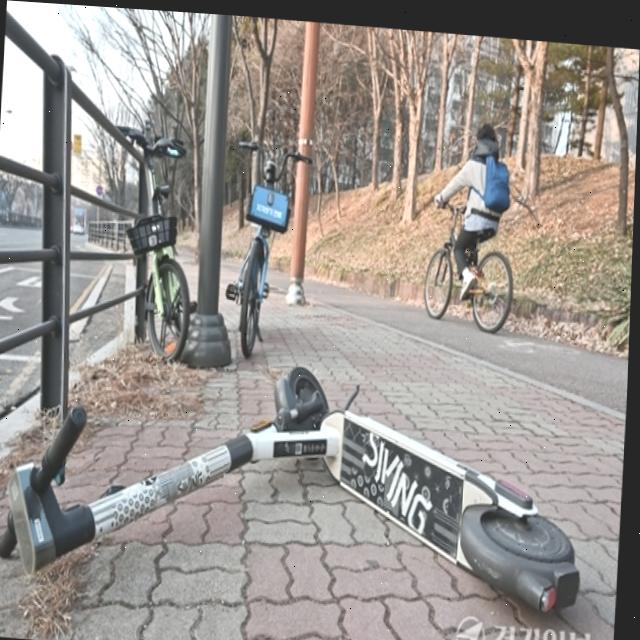ebike_ok: (119, 127, 201, 360), (233, 136, 299, 360)
human: (454, 116, 505, 300)
kickboard_no: (0, 395, 591, 640)
